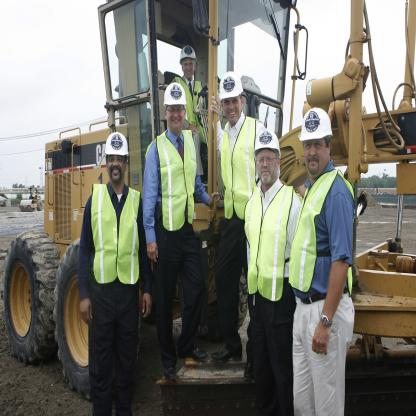person: (297, 103, 360, 414), (146, 60, 208, 376), (75, 122, 140, 416), (242, 116, 291, 409), (210, 63, 248, 364)
